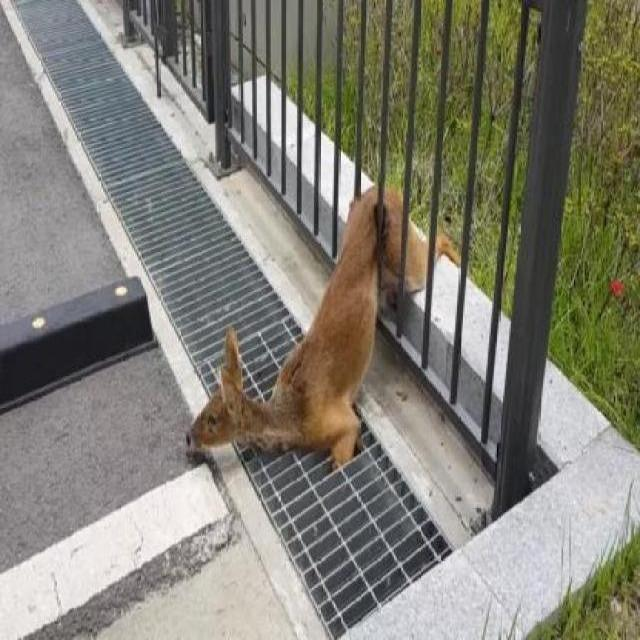deer: (182, 173, 466, 486)
